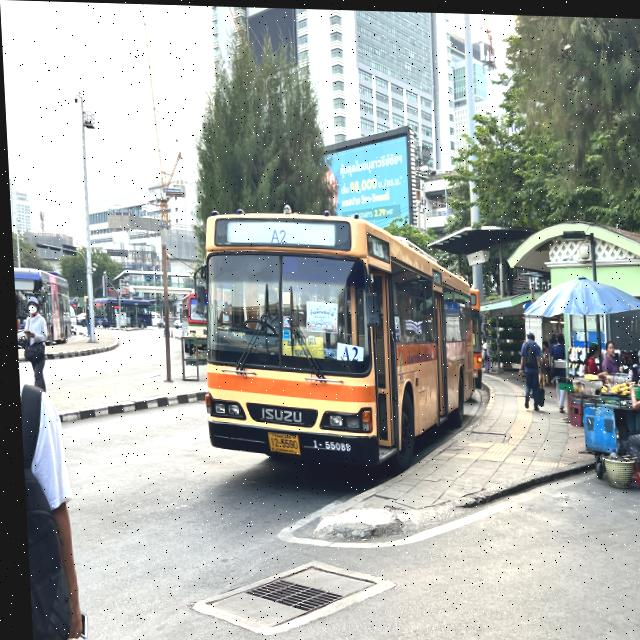BMTA-bus: (200, 211, 471, 467)
Bus Line Number: (265, 224, 290, 245)
Bus Side Number: (304, 435, 351, 455)
Destination Sign: (331, 340, 361, 366)
